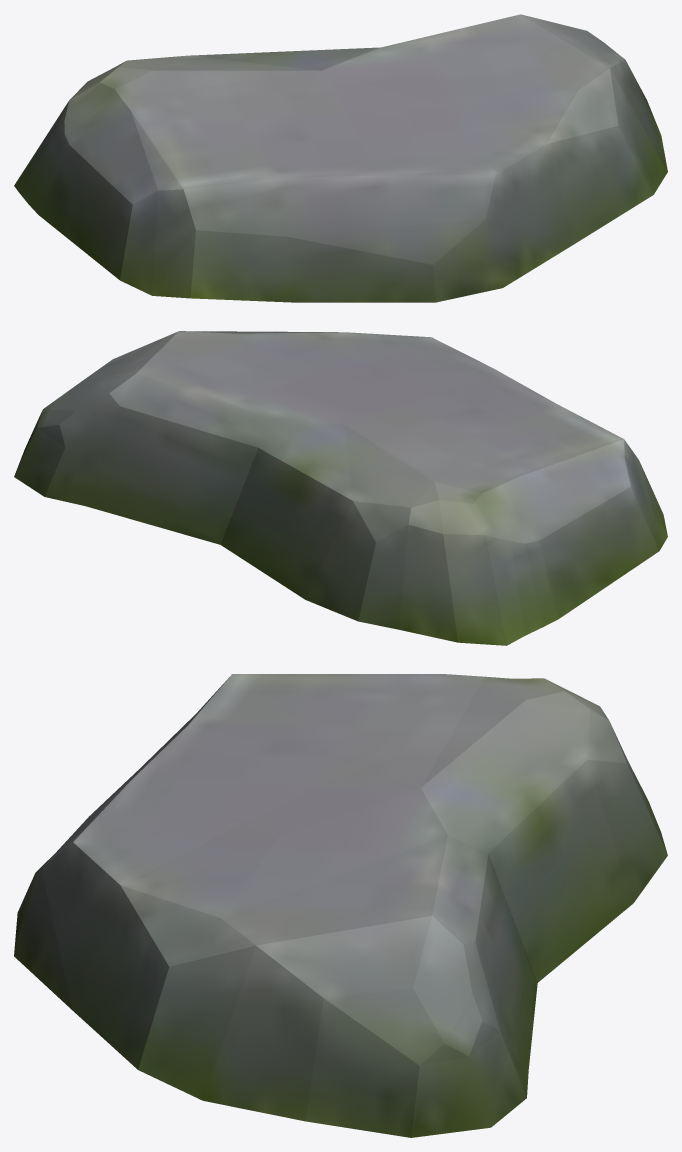
The model's file is sn_pebble_round_1.glb.
3 renders of one model, top to bottom at view 1: azimuth 30°, elevation 25°; view 2: azimuth 150°, elevation 25°; view 3: azimuth 270°, elevation 25°, orthographic. The views are drawn at different scales.
Visible parts, largest first — view 1: Pebble_Round_1; view 2: Pebble_Round_1; view 3: Pebble_Round_1.
Boxes of the visible parts, left/top/right/bottom form: Pebble_Round_1: left=14, top=14, right=667, bottom=302; Pebble_Round_1: left=14, top=331, right=667, bottom=645; Pebble_Round_1: left=14, top=674, right=667, bottom=1137.
Size of the model in its own units: 0.5 by 0.0955 by 0.367.
1 material, 1 textured.
